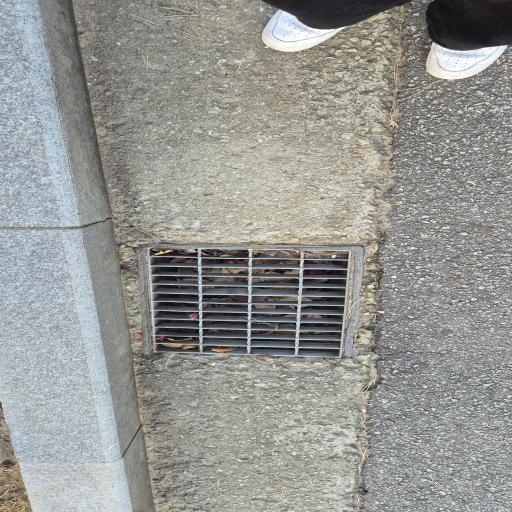debris: (203, 249, 248, 257), (306, 251, 349, 259), (253, 251, 300, 258), (253, 269, 299, 276), (255, 259, 300, 266), (203, 268, 248, 275), (204, 296, 249, 303), (204, 277, 247, 283), (255, 298, 298, 303), (253, 278, 292, 283), (161, 343, 193, 349), (172, 258, 198, 265), (254, 305, 298, 309), (304, 271, 335, 276), (178, 248, 197, 256), (306, 260, 336, 265), (157, 338, 193, 342), (211, 347, 235, 352), (303, 297, 327, 302), (226, 260, 248, 265), (305, 280, 328, 284), (257, 323, 280, 327), (154, 250, 170, 255), (302, 315, 321, 319), (281, 315, 296, 319), (190, 313, 198, 320)
drain: (137, 242, 364, 358)
